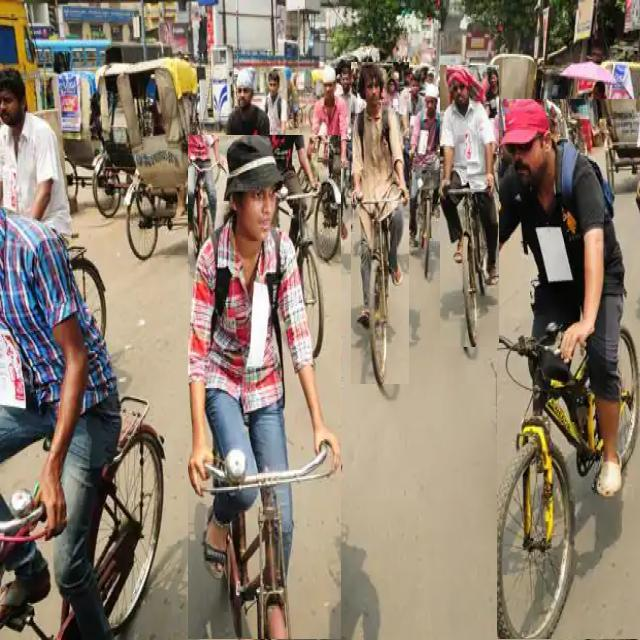bicycle: (188, 135, 341, 639), (497, 100, 640, 639), (0, 208, 164, 638), (96, 56, 215, 260), (351, 62, 409, 384), (205, 67, 269, 357), (440, 65, 499, 347), (409, 84, 445, 277)
